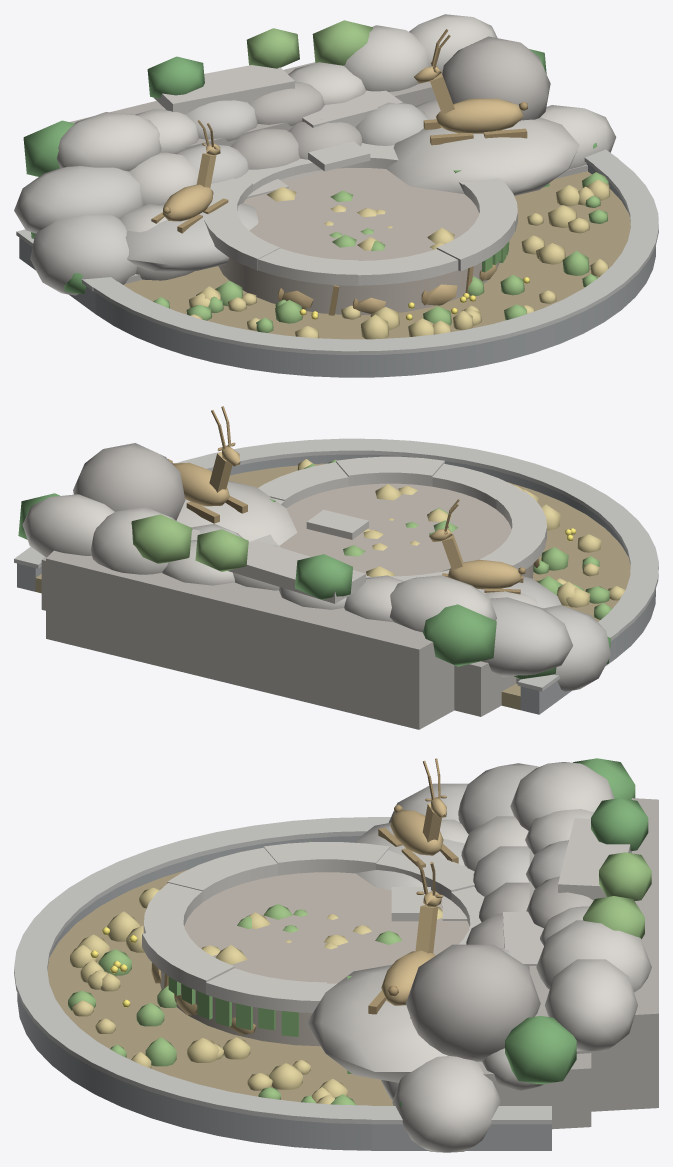
3 renders of one model, top to bottom at view 1: azimuth 30°, elevation 25°; view 2: azimuth 150°, elevation 25°; view 3: azimuth 270°, elevation 25°, orthographic. The views are drawn at different scales.
Parts seen in each view (by area): view 1: base; view 2: base; view 3: base.
Boxes of the visible parts, x1,y1,x2,y2 form: base: (14,14,658,377); base: (14,406,658,729); base: (14,758,658,1152).
Bounding box in the file's own units: 13.71 × 4.3 × 11.46.
